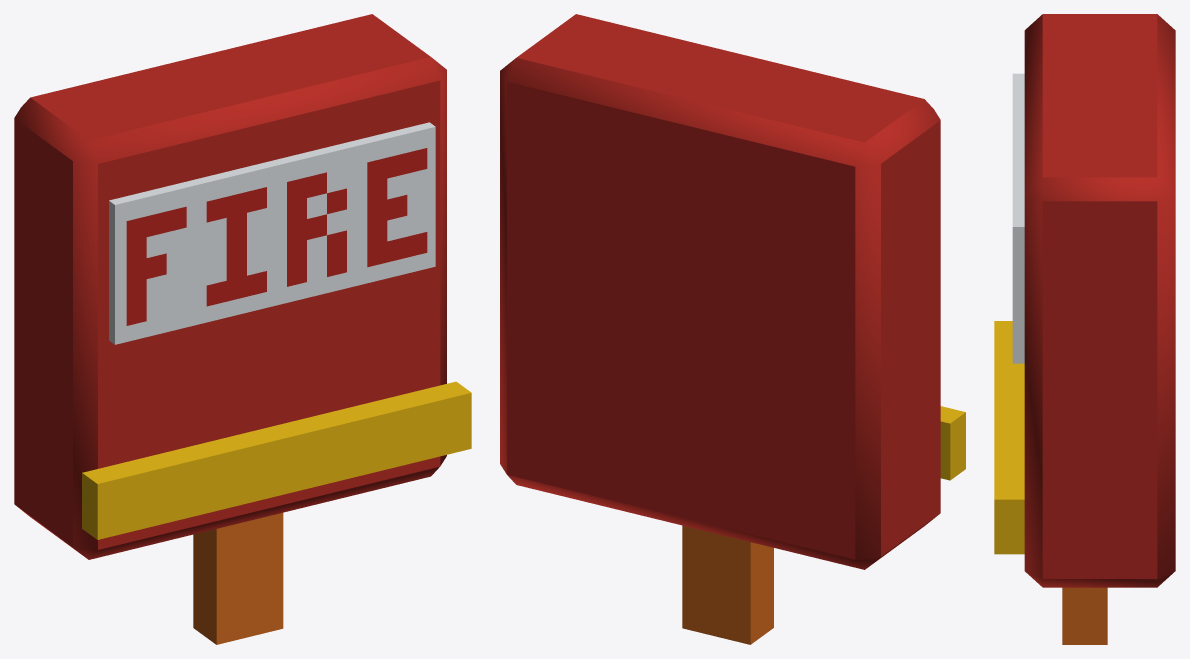
Rendered from safety_fire_blanket_box.glb.
3 views of the same model, side by side, from view 1: azimuth 30°, elevation 25°; view 2: azimuth 150°, elevation 25°; view 3: azimuth 270°, elevation 25° (orthographic). The views are drawn at different scales.
Parts seen in each view (by area): view 1: safety_fire_blanket_box; view 2: safety_fire_blanket_box; view 3: safety_fire_blanket_box.
Boxes of the visible parts, box(x1,y1,x2,y2) form: safety_fire_blanket_box: box(14, 14, 471, 644); safety_fire_blanket_box: box(500, 14, 965, 644); safety_fire_blanket_box: box(994, 14, 1175, 644).
Size of the model in its own units: 0.28 by 0.39 by 0.12.
